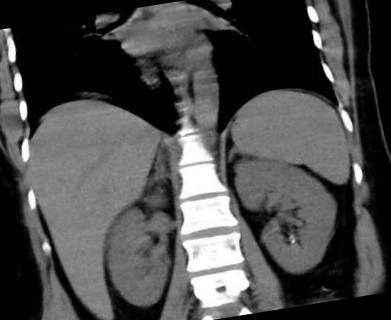Tas_Var: (286, 233, 294, 239), (289, 238, 296, 244)
